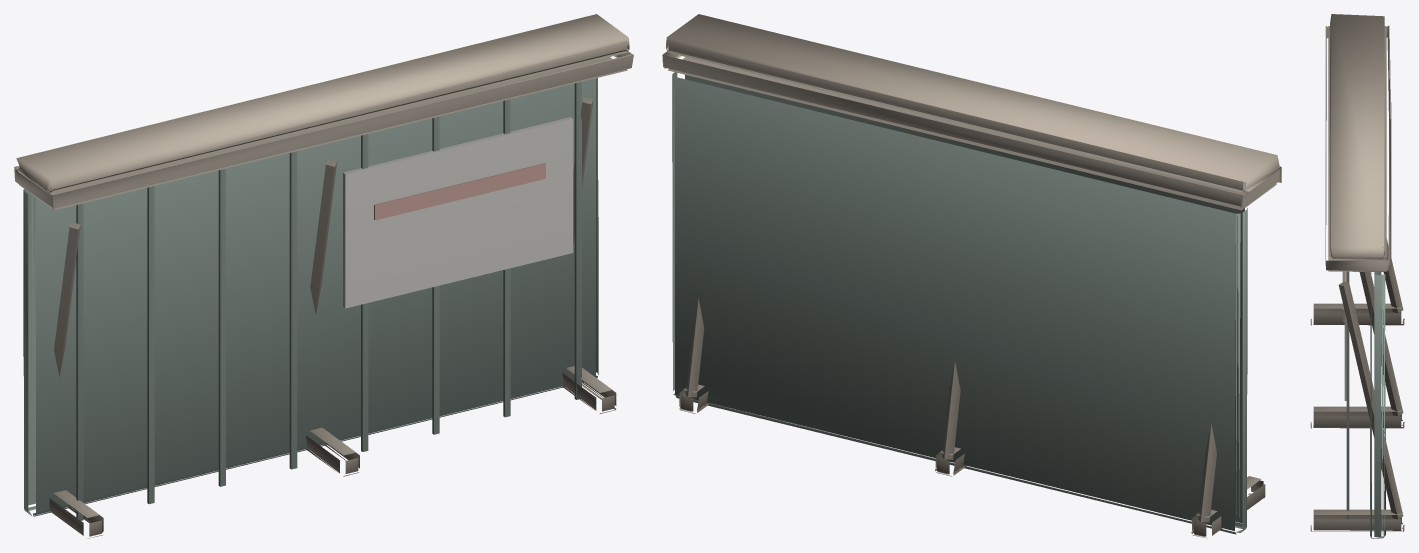
The model's file is hoarding.lod.glb.
3 renders of one model, left to right at view 1: azimuth 30°, elevation 25°; view 2: azimuth 150°, elevation 25°; view 3: azimuth 270°, elevation 25°, orthographic. The views are drawn at different scales.
Size of the model in its own units: 4.1 by 2.41 by 0.7.
